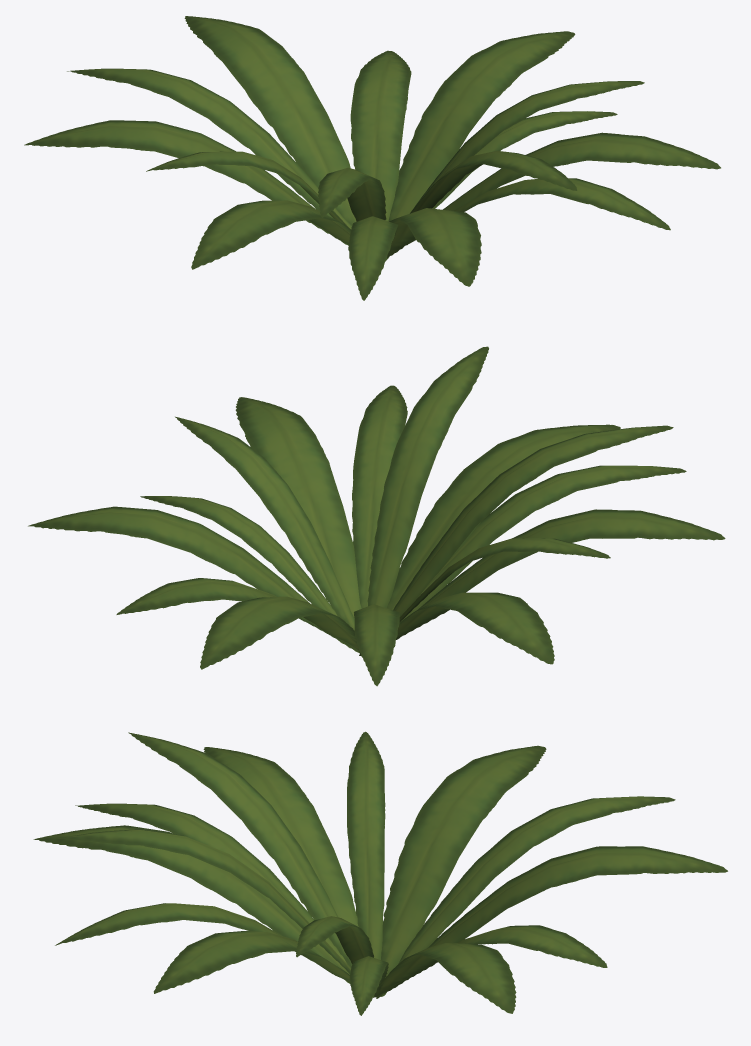
The model's file is Long Leaves.fbx.
The picture shows the model from 3 angles, top to bottom: view 1: azimuth 30°, elevation 25°; view 2: azimuth 150°, elevation 25°; view 3: azimuth 270°, elevation 25°; orthographic projection.
Visible parts, largest first — view 1: SM_LongLeaves; view 2: SM_LongLeaves; view 3: SM_LongLeaves.
Part boxes in pixels (left/top/right/bottom): SM_LongLeaves: left=24, top=16, right=720, bottom=300; SM_LongLeaves: left=28, top=346, right=725, bottom=686; SM_LongLeaves: left=33, top=731, right=727, bottom=1015.
Size of the model in its own units: 2.53 by 0.7639 by 2.76.
